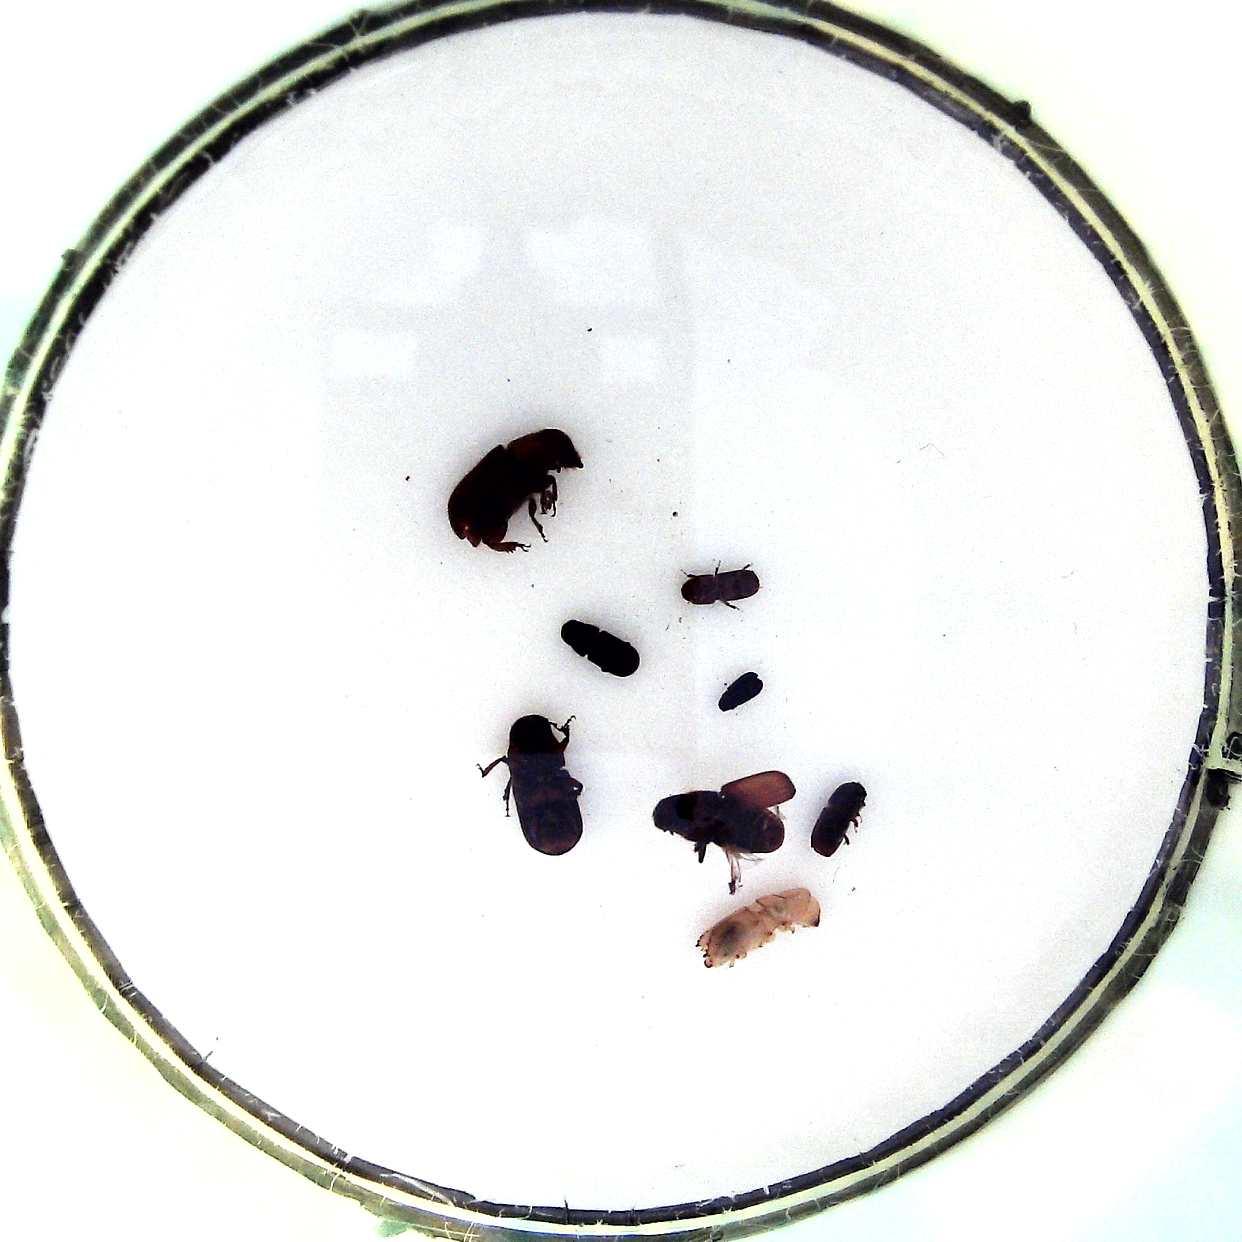Boerner: (695, 883, 823, 974)
Leconte: (440, 423, 583, 557), (641, 767, 800, 881), (486, 711, 589, 856)
Linnaeus: (810, 778, 871, 856)
acuminatus: (679, 562, 761, 611)
armandi: (553, 613, 643, 680)
coleoptera: (715, 666, 765, 717)
